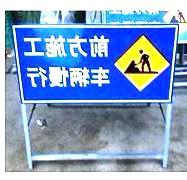sign: (12, 25, 172, 102)
